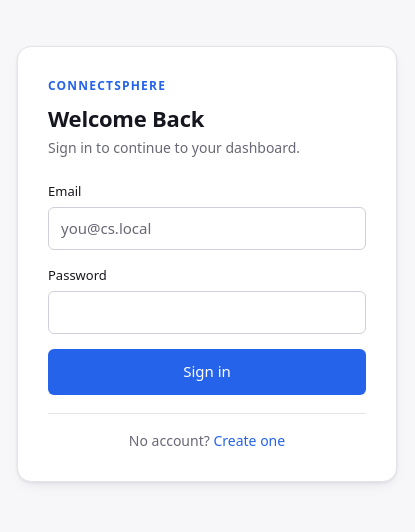
Test: logging in › SCRUM-14: wrong details do not sign in, and the error does not say whether the account exists
The image size is (415, 532).
Type "someone@cs.local" into the field labelled "Email".
click(207, 228); type("someone@cs.local")  # box x1=48 y1=207 x2=366 y2=250
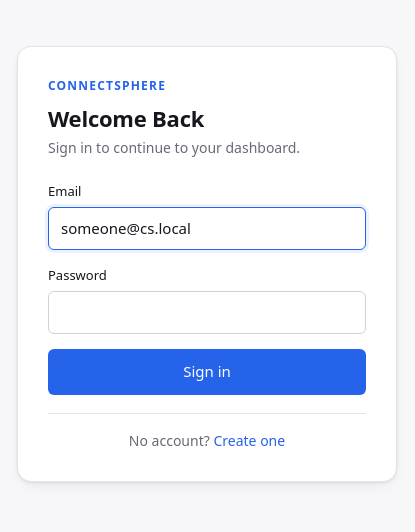
Type "a-password" into the password field labelled "Password".
click(207, 313); type("a-password")  # box x1=48 y1=291 x2=366 y2=334
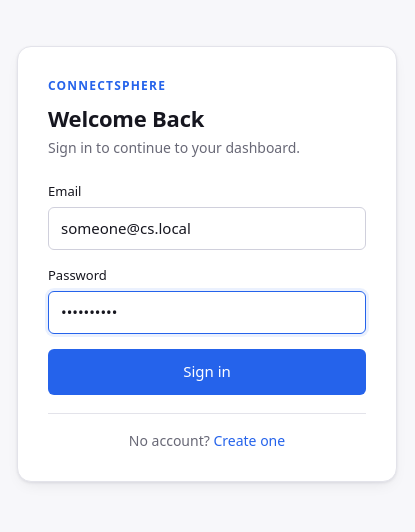
Click the button "Sign in".
click(207, 372)  # box x1=48 y1=349 x2=366 y2=395
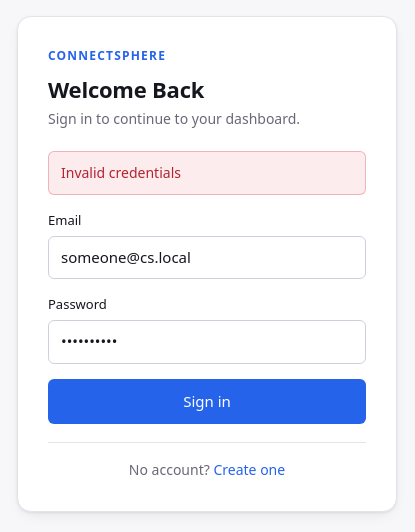
Expected: the button "Sign in" is shown, x1=48 y1=379 x2=366 y2=424
Expected: the message reads "Invalid credentials", x1=61 y1=163 x2=181 y2=182
